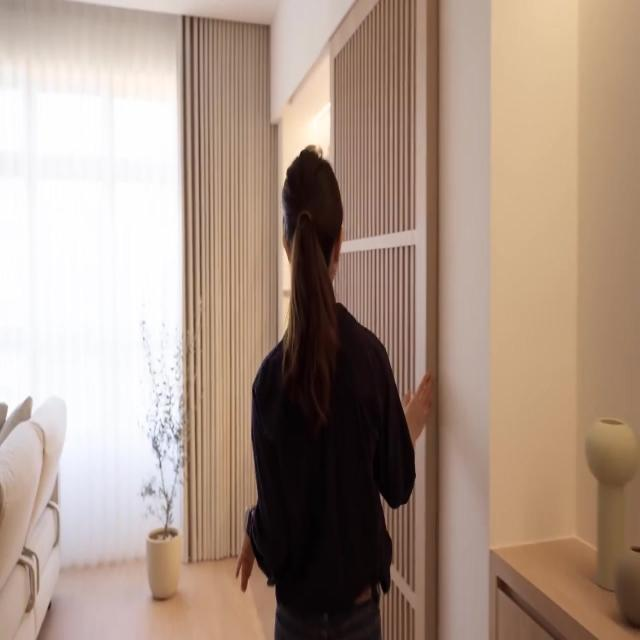obstacle: (0, 393, 66, 639), (488, 534, 640, 639)
person: (234, 143, 434, 639)
